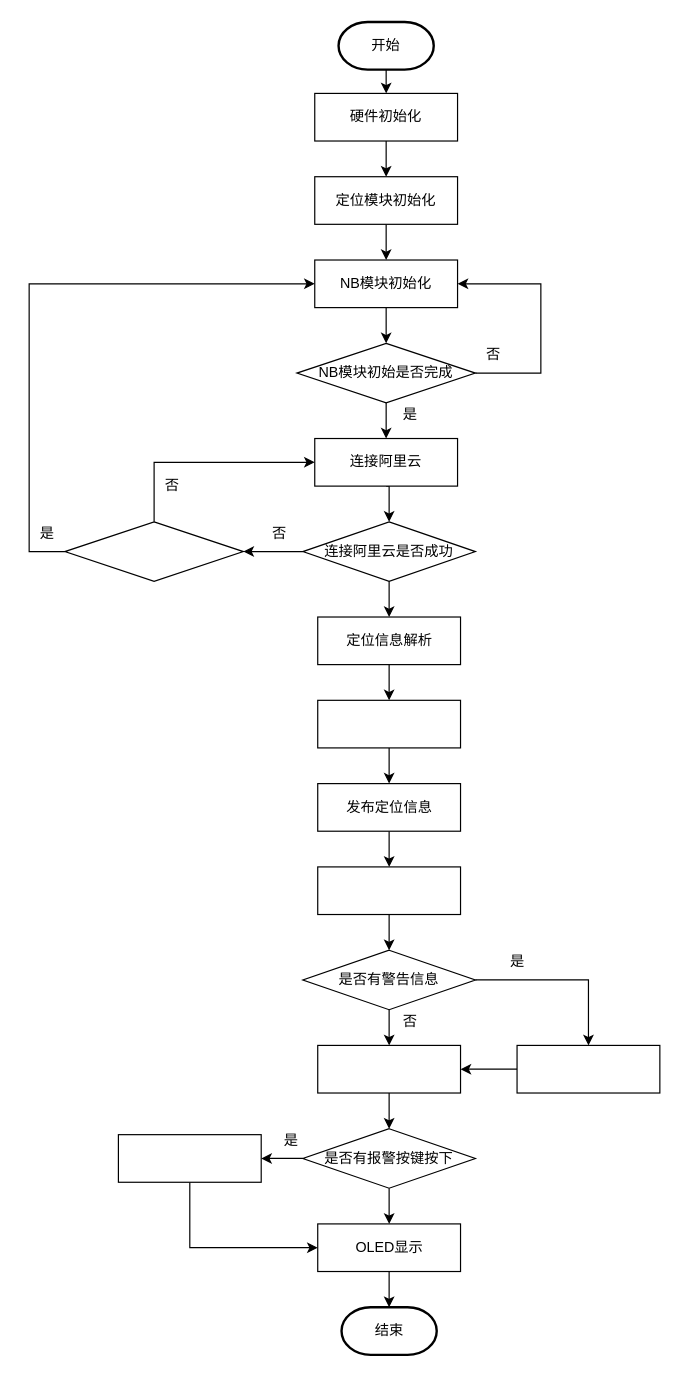
The diagram is 681 pixels wide and 1376 high, and some of its shapes have lost their labels. The centre of each missing label's shape, as x and y in pixels:
"发布警告信息" belongs at (189,1157).
"按键扫描" belongs at (389,1068).
"接收信息处理" belongs at (389,890).
"蜂鸣器报警" belongs at (588,1068).
"订阅信息" belongs at (389,723).
"连接是否超时" belongs at (153,551).
